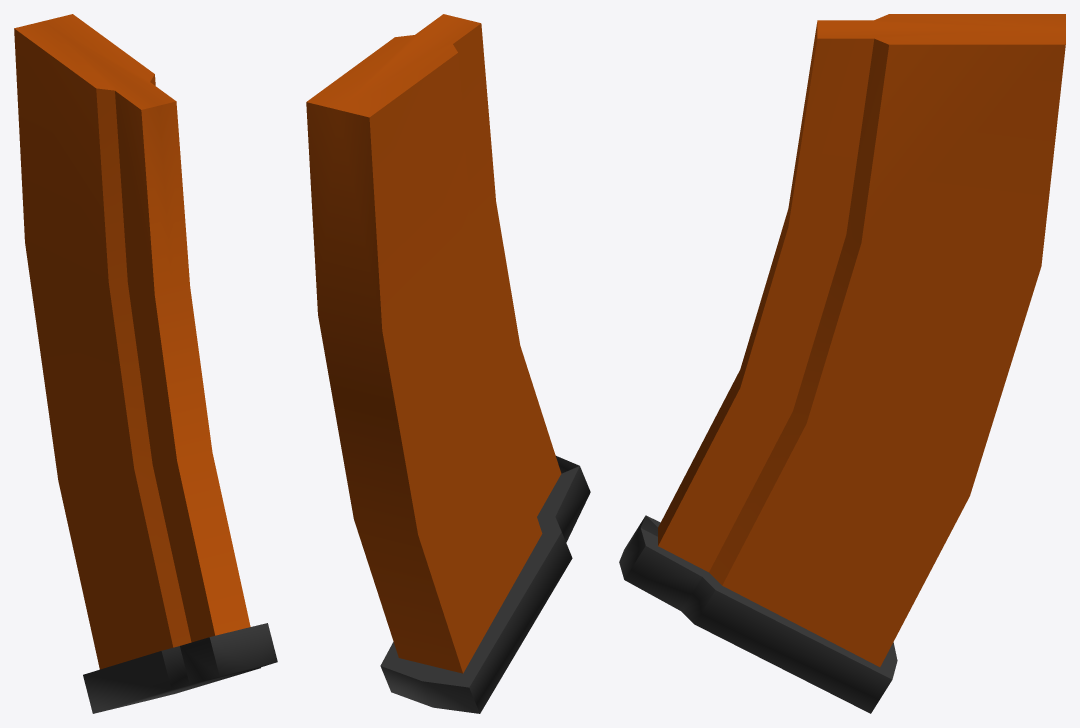
File: mag_4.fbx
3 views of the same model, side by side, from view 1: azimuth 30°, elevation 25°; view 2: azimuth 150°, elevation 25°; view 3: azimuth 270°, elevation 25° (orthographic). The views are drawn at different scales.
Visible parts, largest first — view 1: mag_4; view 2: mag_4; view 3: mag_4.
Part boxes in pixels (x1,y1,x2,y2): mag_4: (14,14,277,713); mag_4: (306,14,590,713); mag_4: (619,14,1065,713).
Bounding box in the file's own units: 155 × 1024 × 623.
